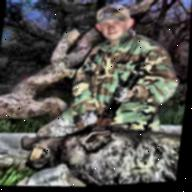boar: (16, 91, 186, 190)
